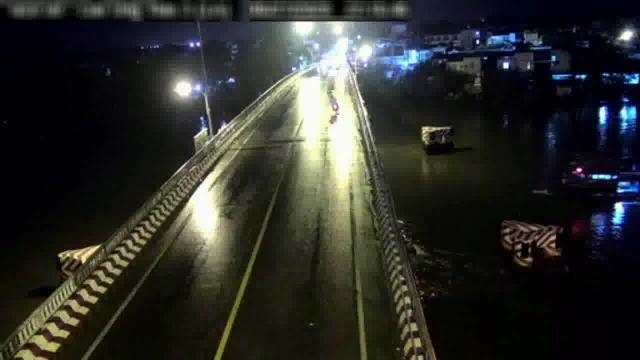Bike: (328, 90, 340, 116)
